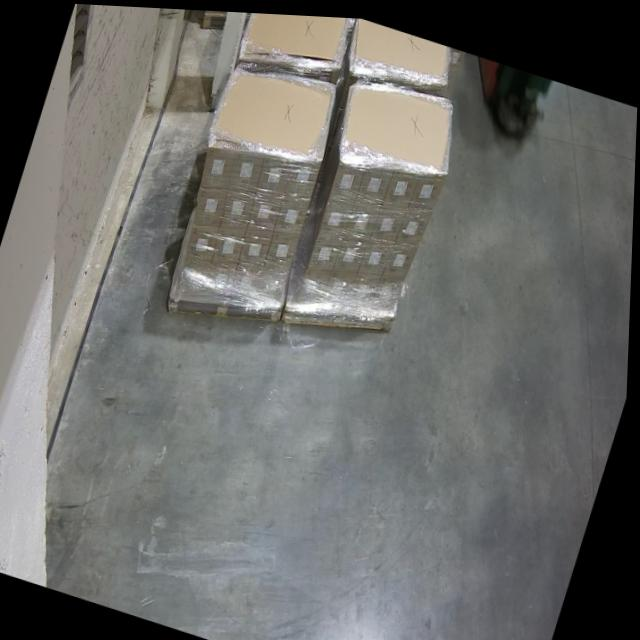pallet: (209, 60, 337, 159), (340, 82, 452, 170), (350, 14, 451, 78), (238, 10, 349, 63)
